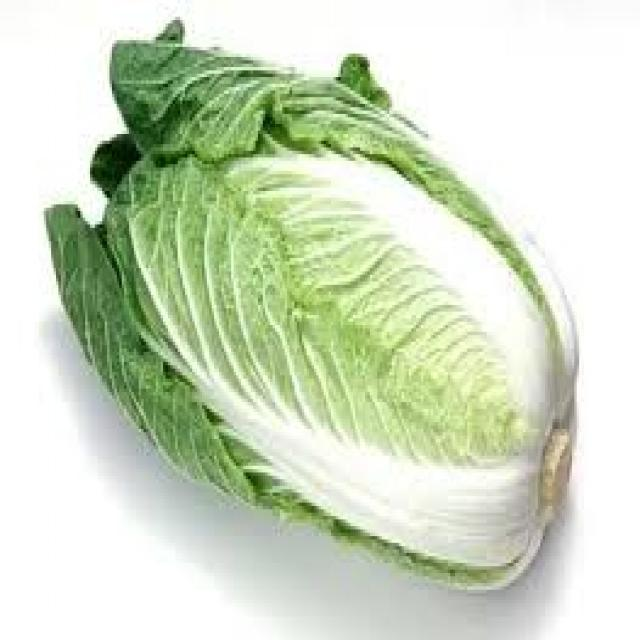organic waste: (42, 13, 574, 593)
